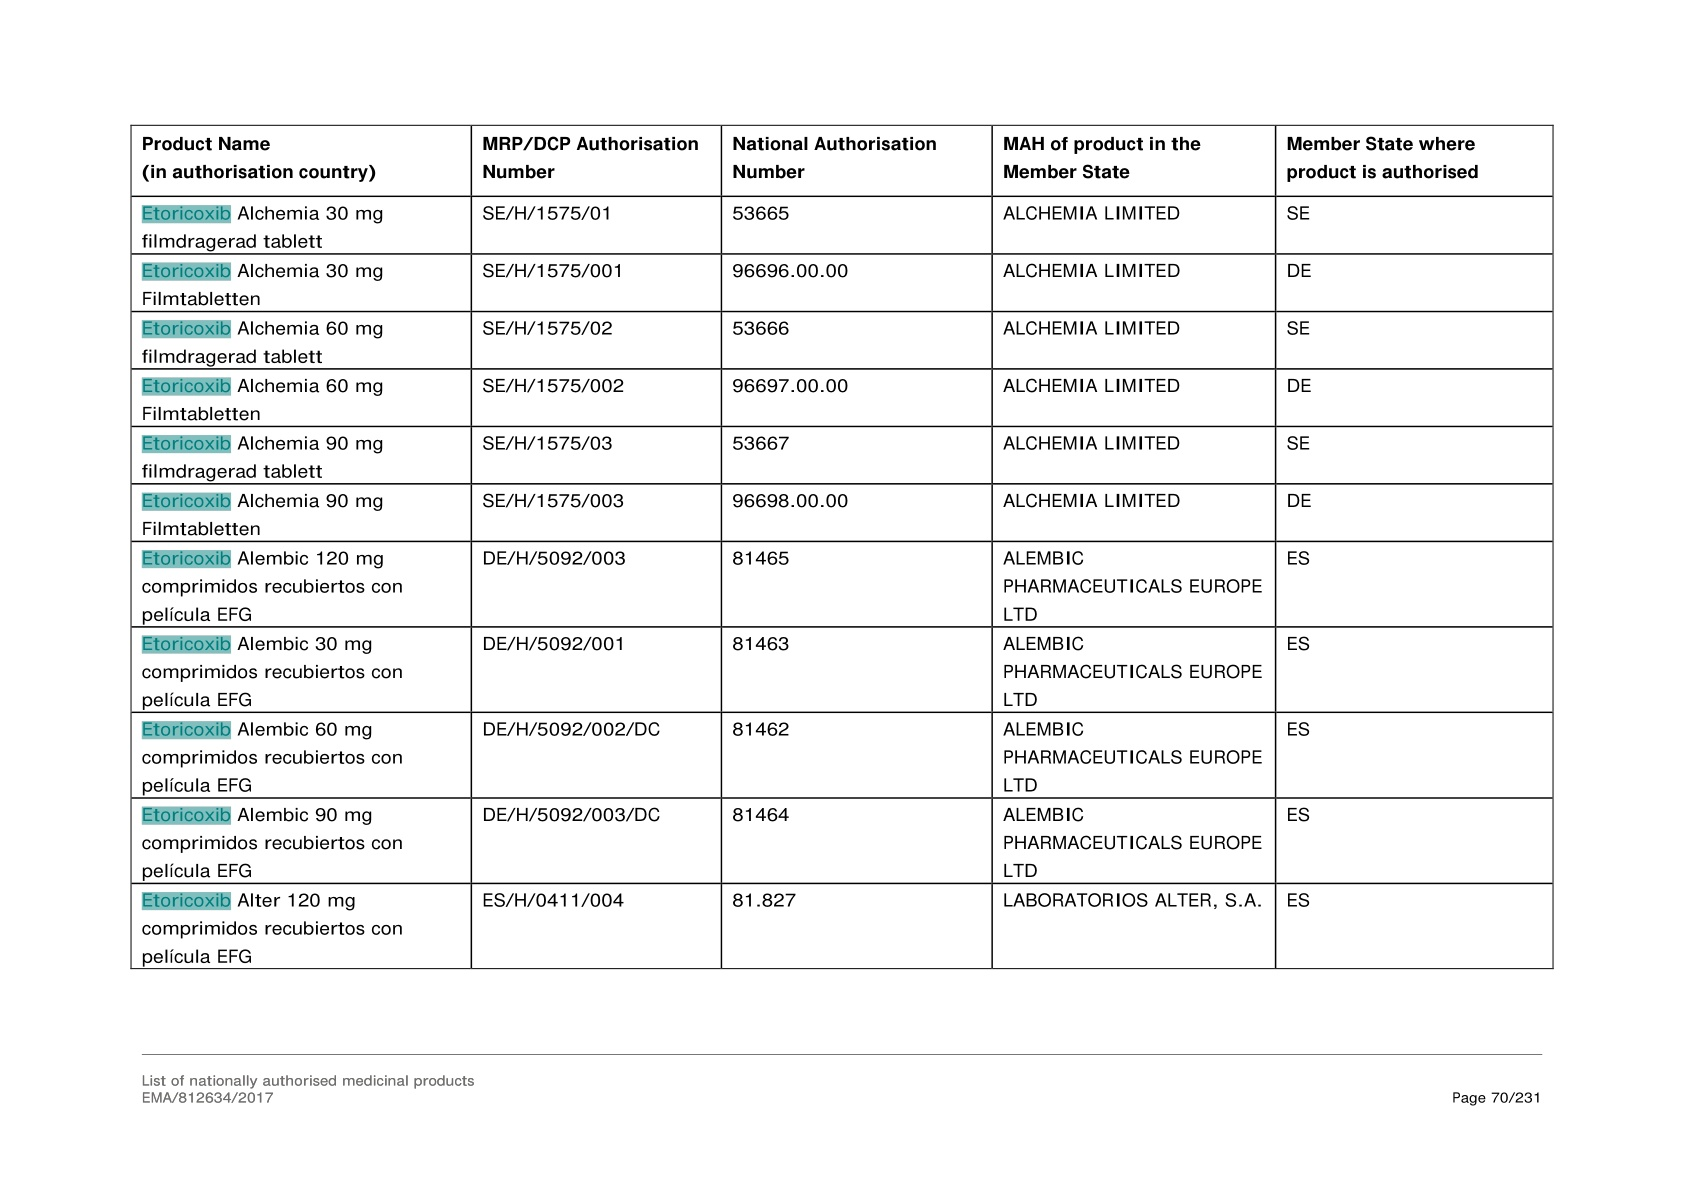full_lined: (130, 124, 1554, 971)
